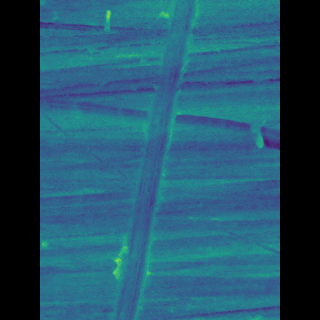Loch: (122, 0, 192, 320), (69, 88, 252, 153)
